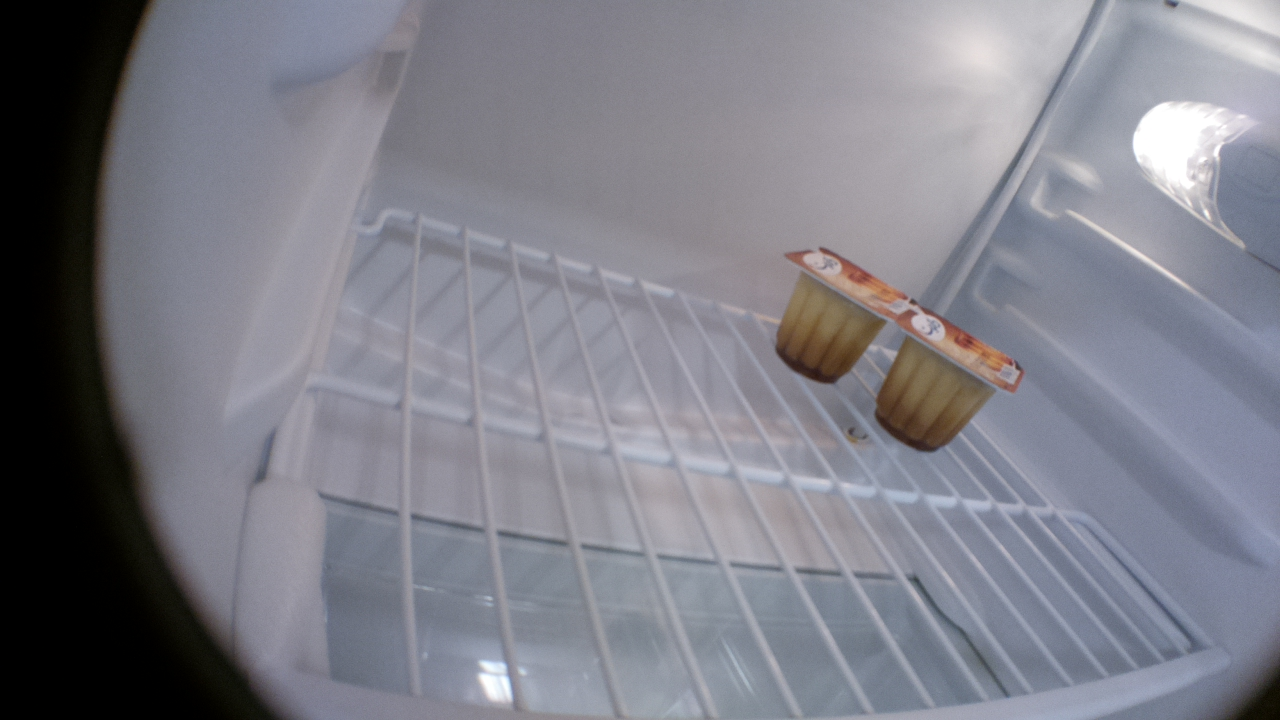caramel: (874, 302, 1022, 453), (774, 237, 914, 382)
